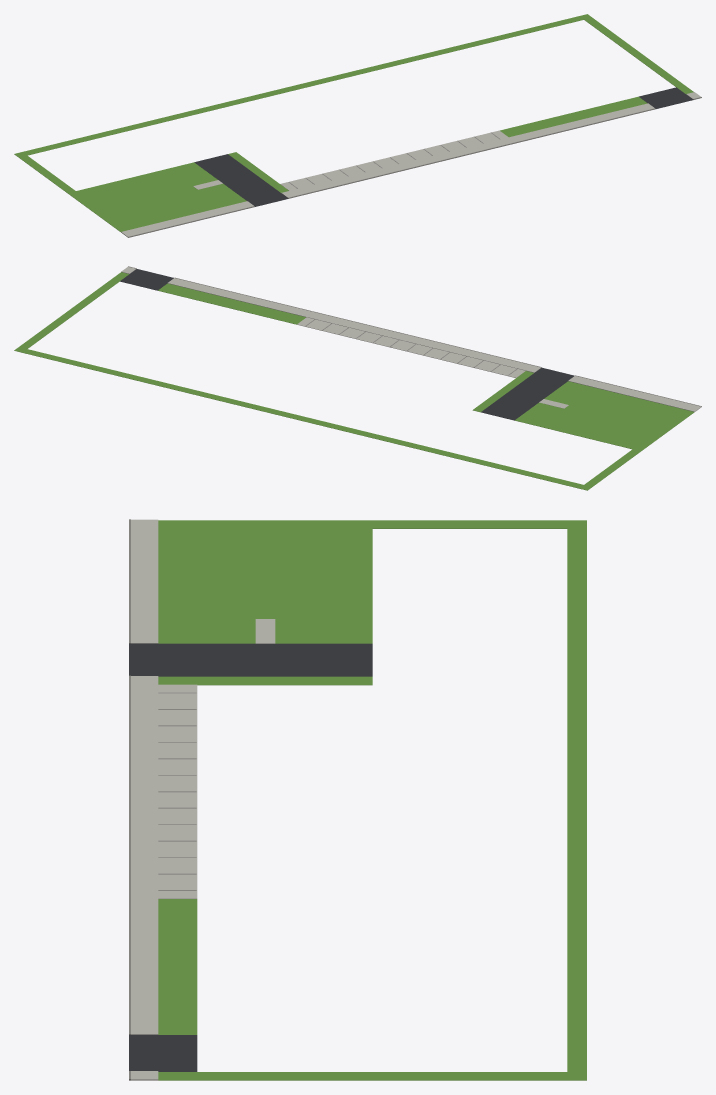
The model's file is PD_SiteGround.fbx.
3 views of the same model, one above another, from view 1: azimuth 30°, elevation 25°; view 2: azimuth 150°, elevation 25°; view 3: azimuth 270°, elevation 25° (orthographic). The views are drawn at different scales.
Parts seen in each view (by area): view 1: PD_SiteGround_Mesh; view 2: PD_SiteGround_Mesh; view 3: PD_SiteGround_Mesh.
Part boxes in pixels (<box>): PD_SiteGround_Mesh: <box>14,14,701,237</box>; PD_SiteGround_Mesh: <box>14,266,701,490</box>; PD_SiteGround_Mesh: <box>129,519,586,1080</box>.
Bounding box in the file's own units: 136 × 0.17 × 47.
